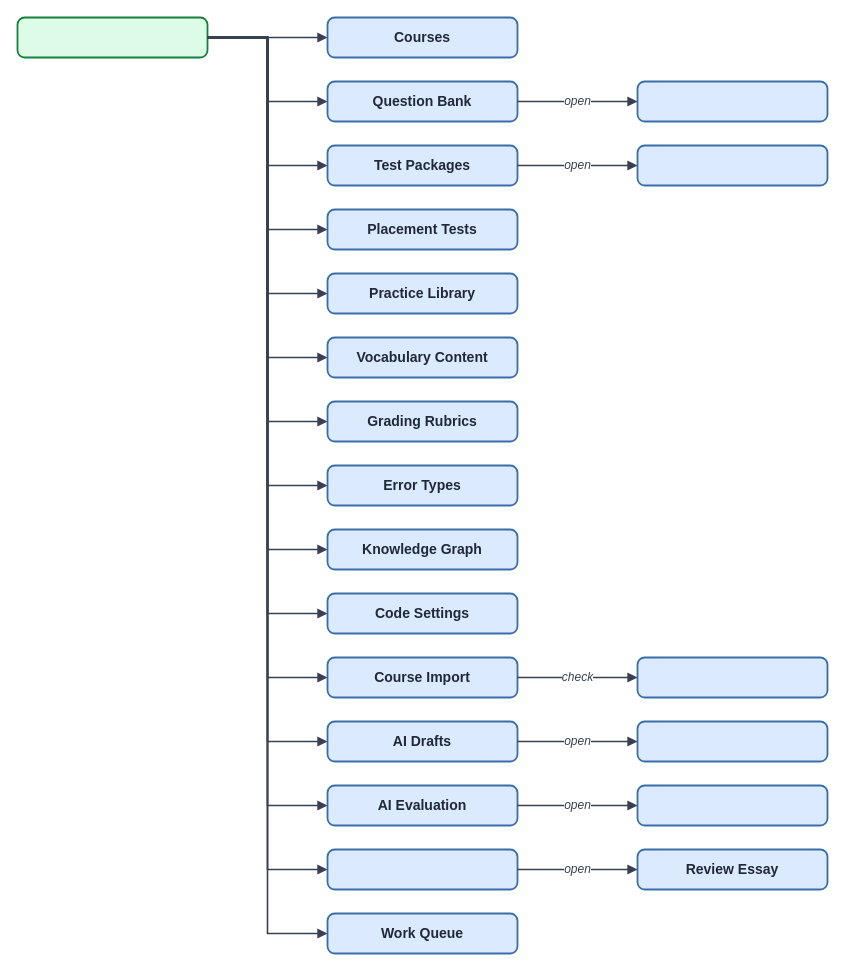
The diagram is 846 pixels wide and 972 high, and some of its shapes have lost their labels. The centre of each missing label's shape, as x and y in pixels:
"AI Draft Detail" belongs at point (732, 741).
"Content Author Home" belongs at point (112, 37).
"Evaluation Run" belongs at point (732, 805).
"Examiner Grade Check" belongs at point (422, 869).
"Import Draft" belongs at point (732, 677).
"Package Editor" belongs at point (732, 165).
"Question Detail" belongs at point (732, 101).
